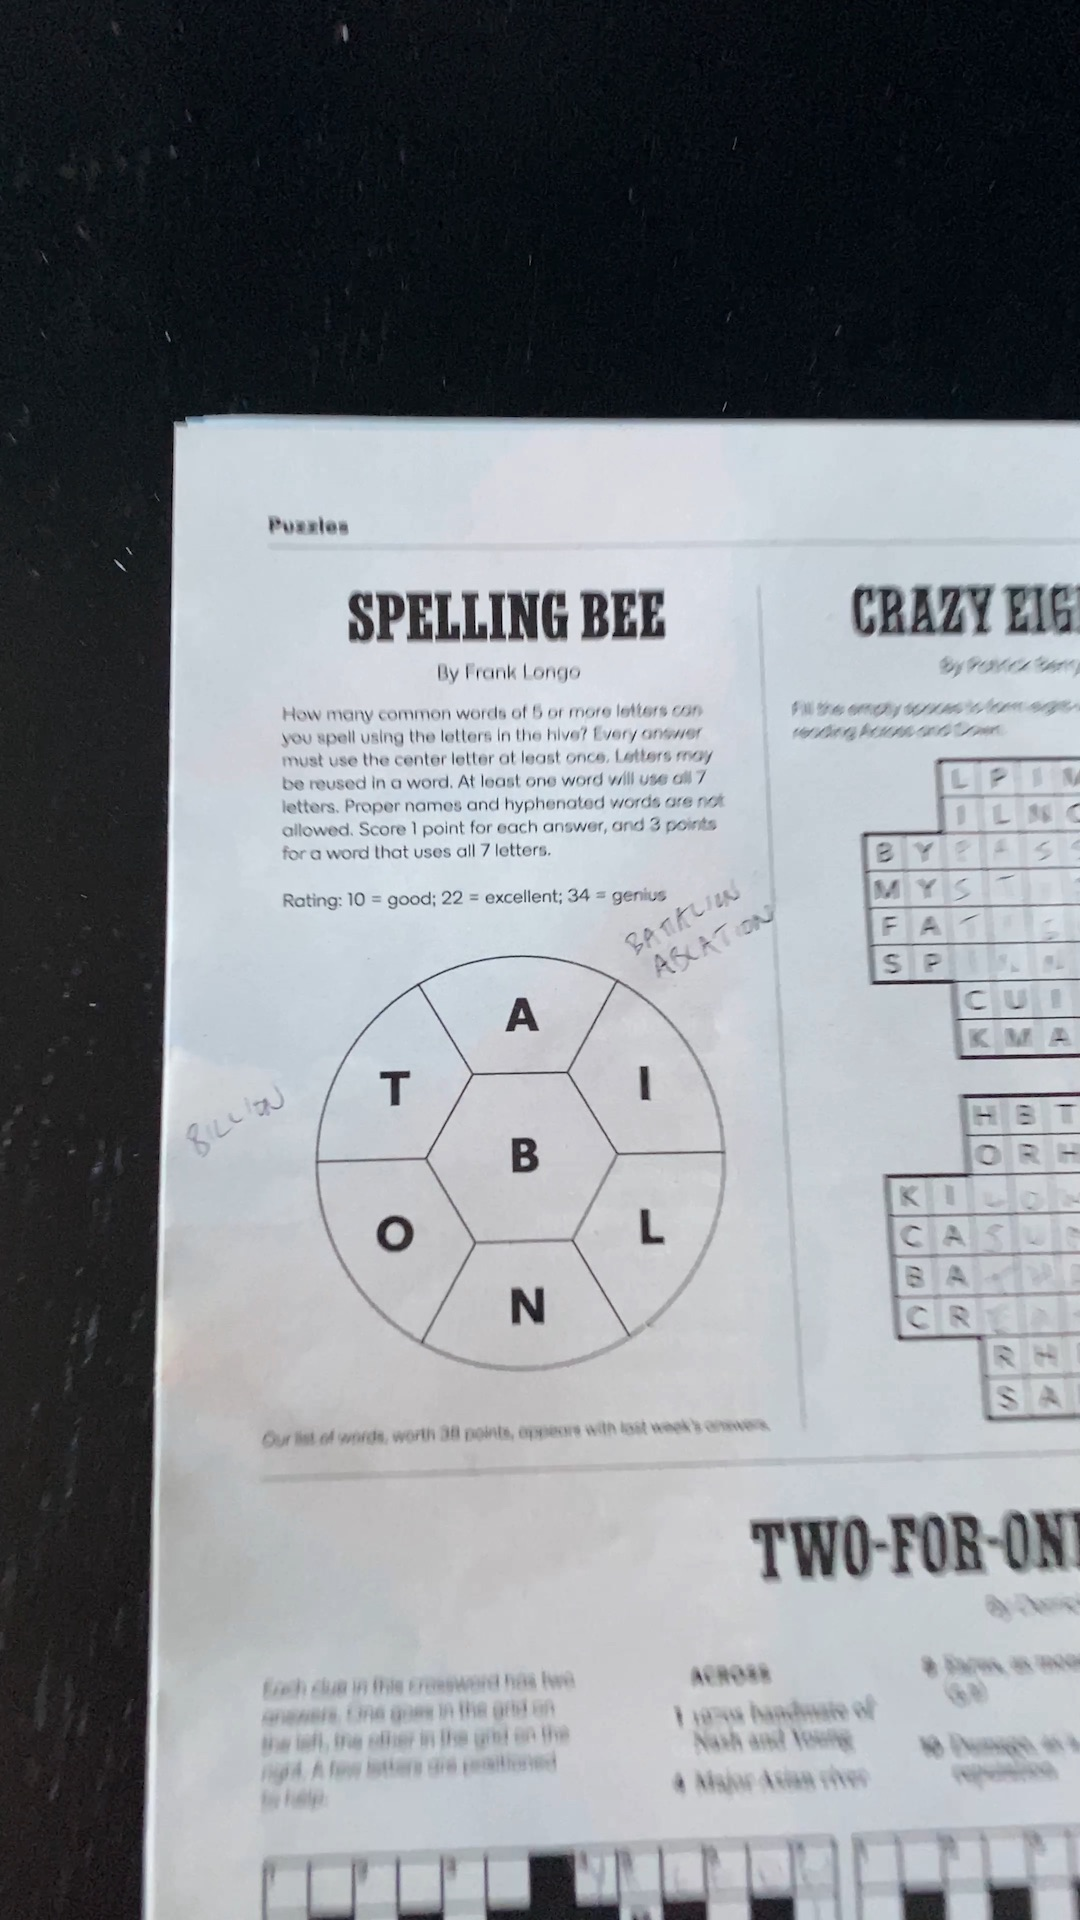Board: (295, 945, 737, 1379)
